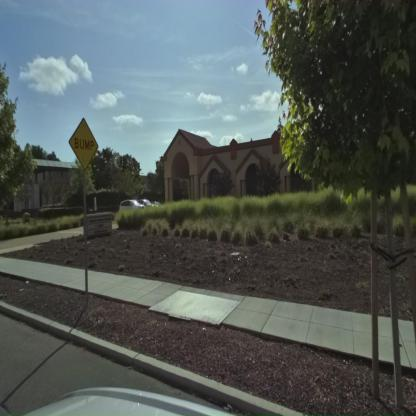car: (120, 199, 148, 209)
